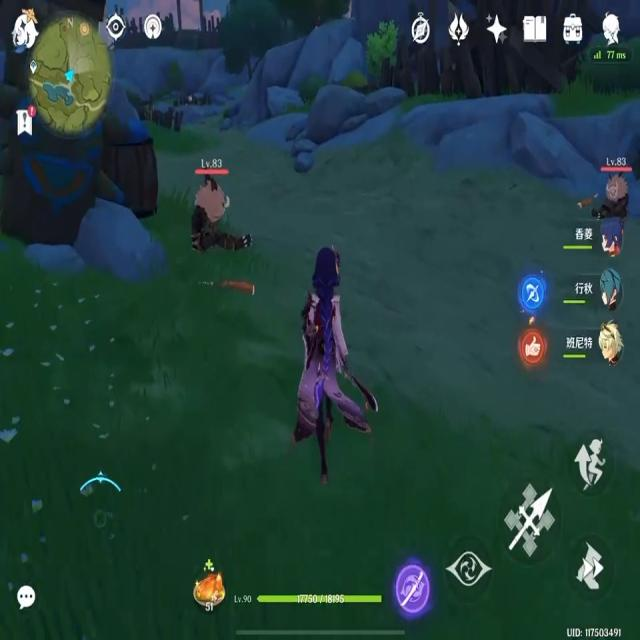genshin-hilichurls: (194, 169, 253, 264), (598, 172, 628, 220)
